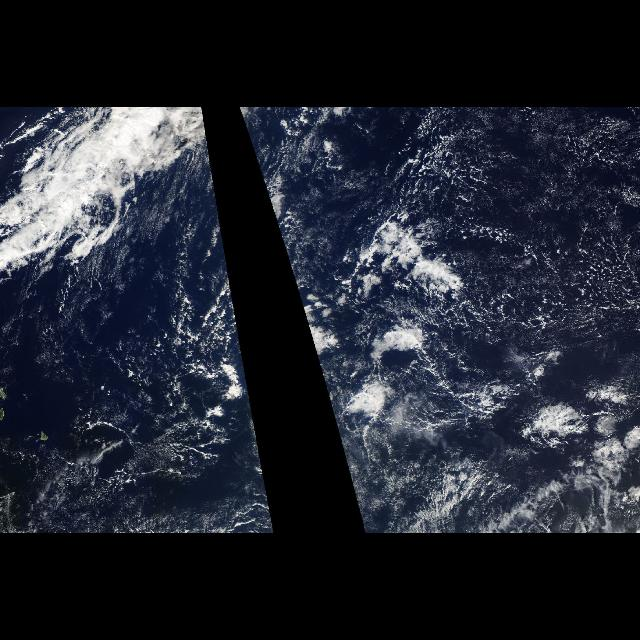Gravel: (282, 110, 640, 410), (38, 291, 264, 501)
Sugar: (14, 194, 236, 384)
